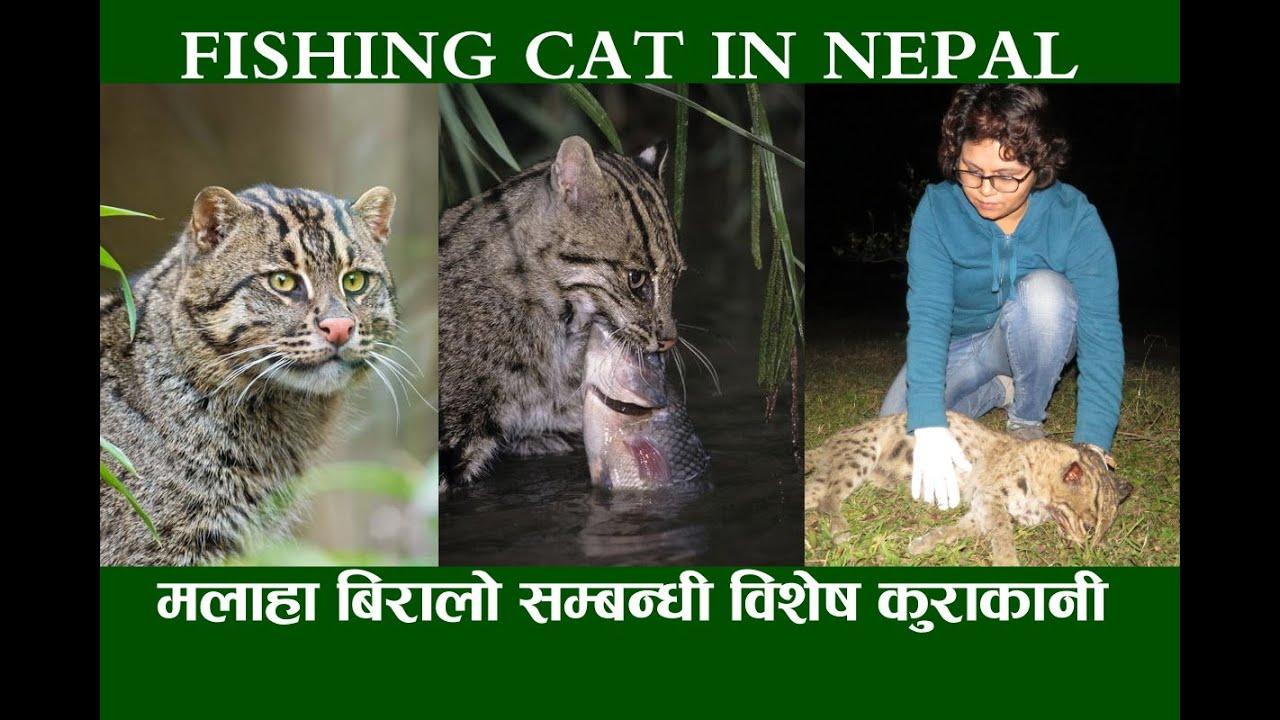cat: (98, 173, 416, 569), (436, 126, 728, 496), (804, 394, 1137, 571)
human: (870, 84, 1166, 507)
